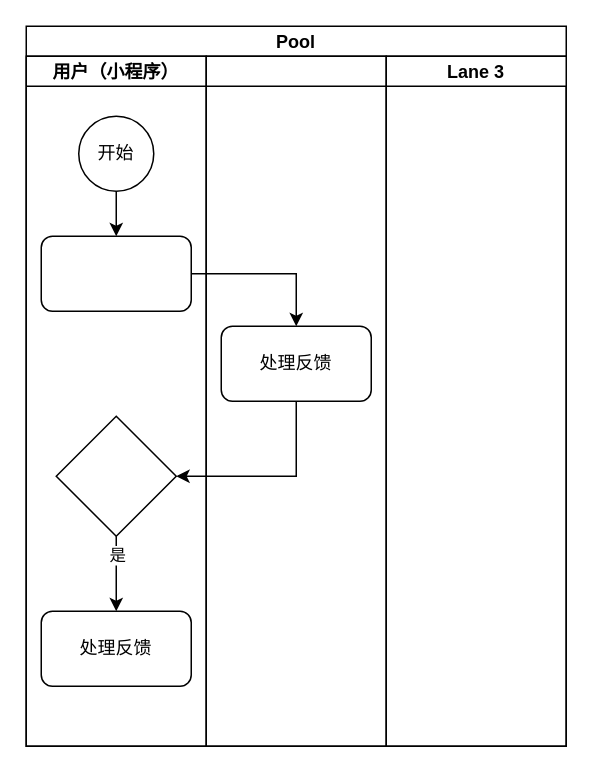
Some shapes in this 593 by 773 pixel diagram are drawn without their labels. Here are the shapes that lost their labels. From the top down, the box of each, then its label:
(40, 235, 191, 311): 发起反馈
(205, 55, 386, 746): 服务团队
(55, 415, 176, 536): 处理完毕？
